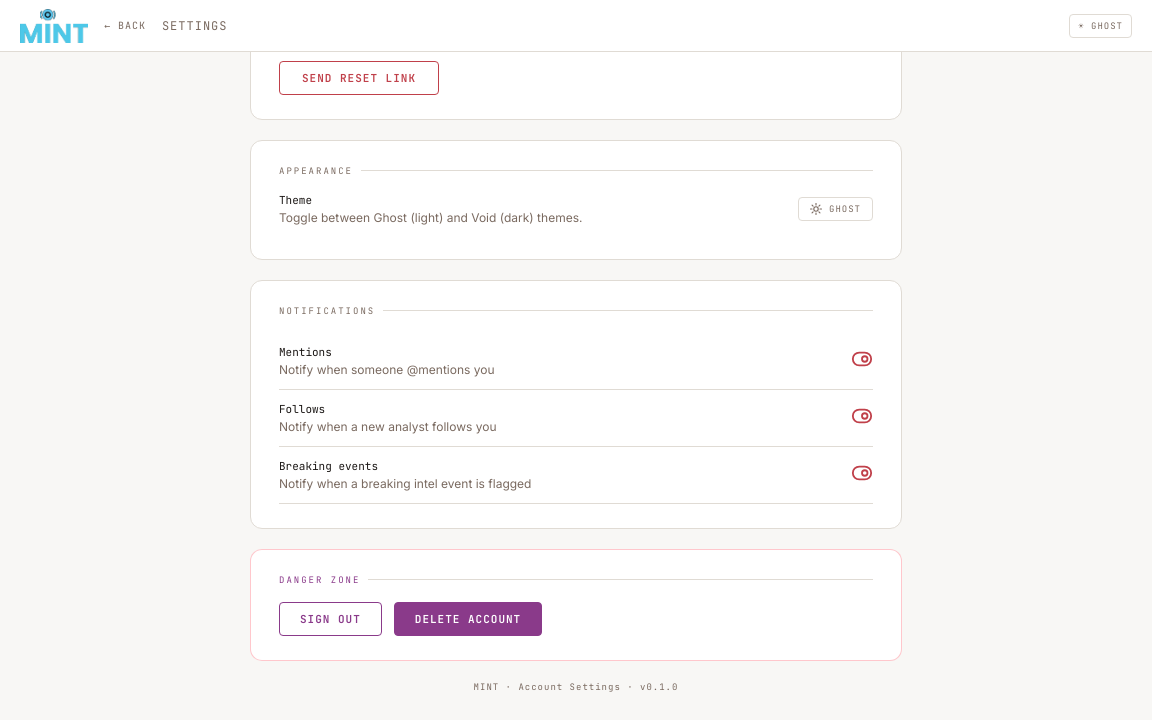
Test: SettingsPage › clicking a toggle flips it to disabled (○)
(page scrolled)
Click the button titled "Click to disable" in the row of "Notify when someone @mentions you" at [862, 361], box left=851, top=348, right=873, bottom=373
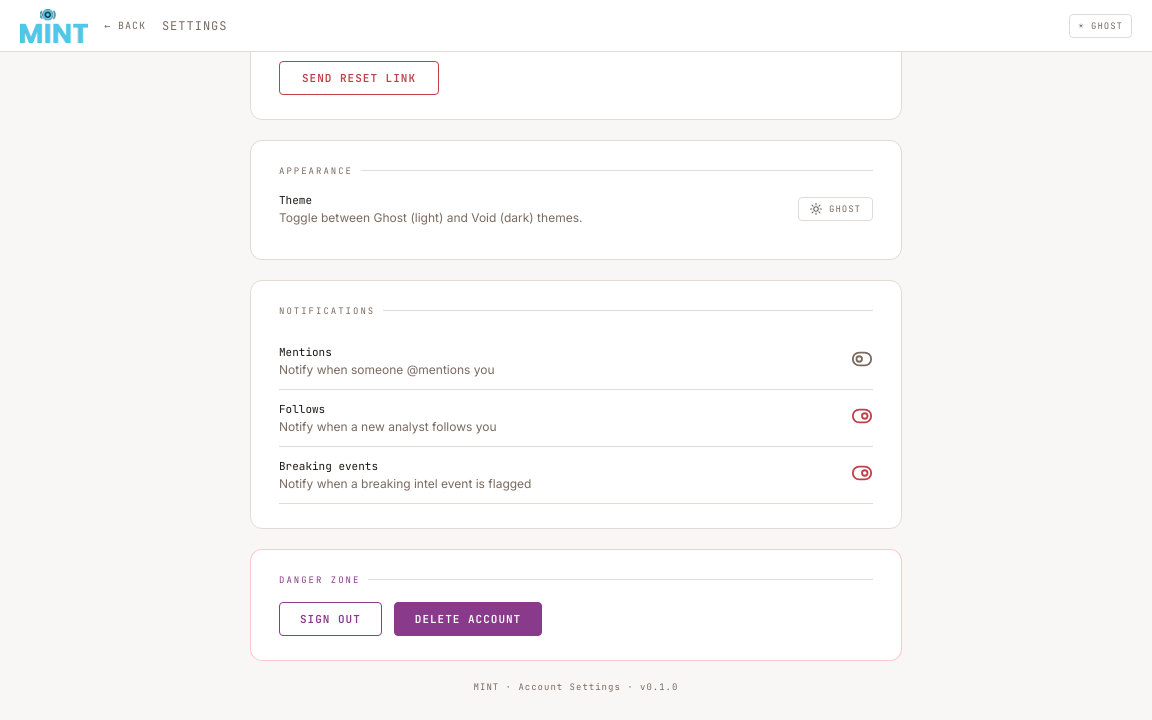
expect the button titled "Click to enable" is shown: met, box left=851, top=348, right=873, bottom=373
